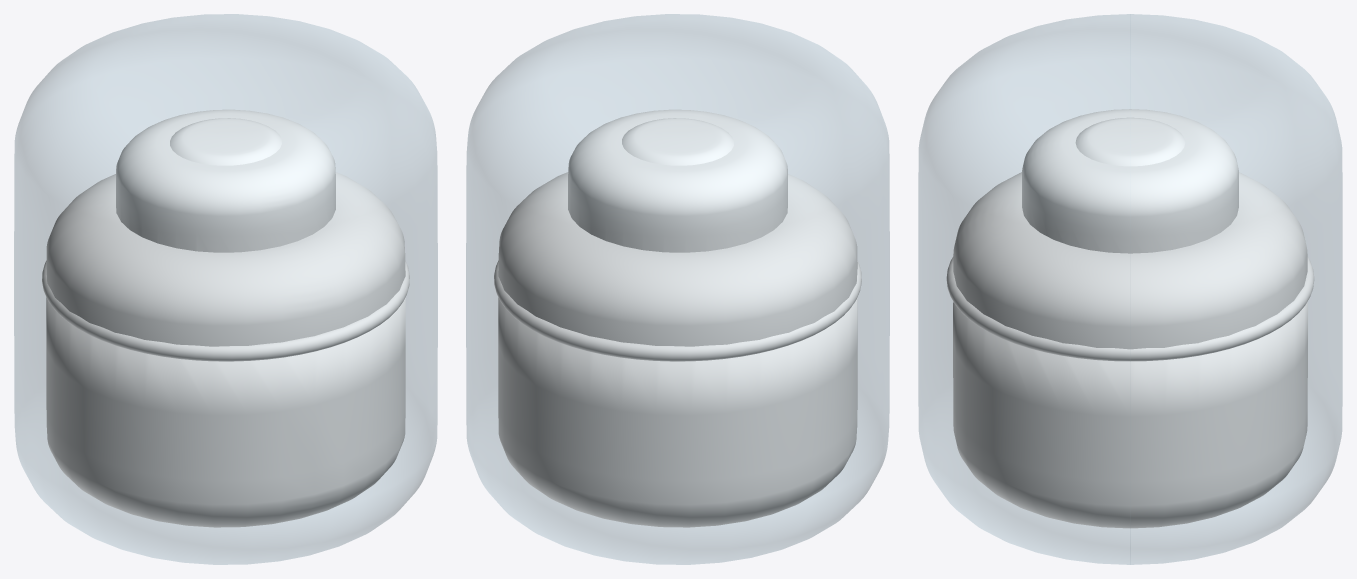
File: capsule(Lastest).glb
3 views of the same model, side by side, from view 1: azimuth 30°, elevation 25°; view 2: azimuth 150°, elevation 25°; view 3: azimuth 270°, elevation 25° (orthographic).
Parts seen in each view (by area): view 1: Glass, Inner_Core_Top, Inner_Core_Bot; view 2: Glass, Inner_Core_Top, Inner_Core_Bot; view 3: Glass, Inner_Core_Top, Inner_Core_Bot.
Part boxes in pixels (box(x1,y1,x2,y2)): Glass: box(14, 14, 437, 564); Inner_Core_Top: box(42, 109, 409, 361); Inner_Core_Bot: box(46, 297, 405, 527); Glass: box(466, 14, 889, 564); Inner_Core_Top: box(494, 109, 861, 361); Inner_Core_Bot: box(498, 297, 857, 527); Glass: box(918, 14, 1342, 564); Inner_Core_Top: box(946, 109, 1314, 361); Inner_Core_Bot: box(953, 302, 1307, 528).
Bounding box in the file's own units: 0.981 × 1.09 × 0.981.
